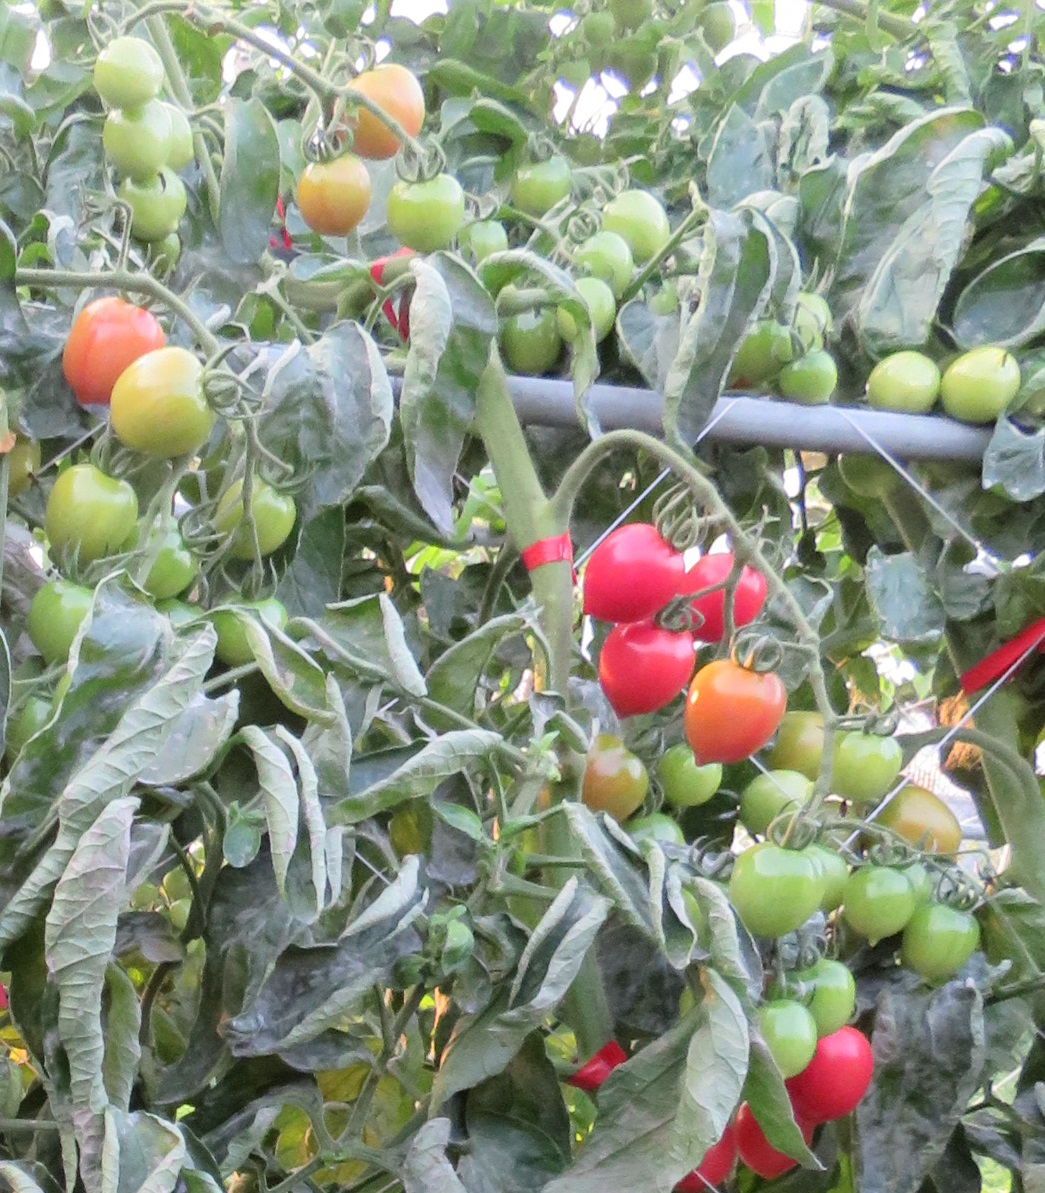green: (111, 341, 207, 458), (40, 460, 137, 563), (885, 782, 972, 876), (728, 844, 813, 941), (838, 862, 919, 948), (219, 477, 301, 558), (824, 730, 903, 810), (90, 100, 175, 174), (19, 578, 87, 670), (213, 595, 299, 666), (387, 176, 465, 252), (853, 355, 944, 420), (737, 767, 813, 837), (91, 38, 169, 106), (940, 352, 1018, 418), (902, 920, 980, 985), (759, 1000, 817, 1085), (581, 755, 654, 820), (557, 276, 622, 346), (102, 170, 180, 228), (796, 957, 863, 1023), (506, 157, 585, 207), (771, 357, 843, 410), (503, 307, 558, 376), (661, 746, 723, 806), (605, 191, 671, 238), (581, 232, 632, 280)
orange: (55, 296, 166, 411), (681, 662, 784, 772), (336, 60, 429, 160), (297, 160, 374, 242)
red: (580, 525, 691, 628), (593, 617, 698, 716), (816, 1028, 881, 1116)
